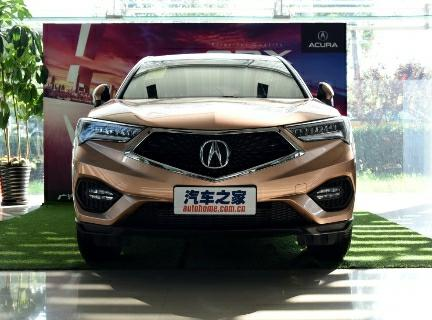car: (61, 39, 359, 274)
